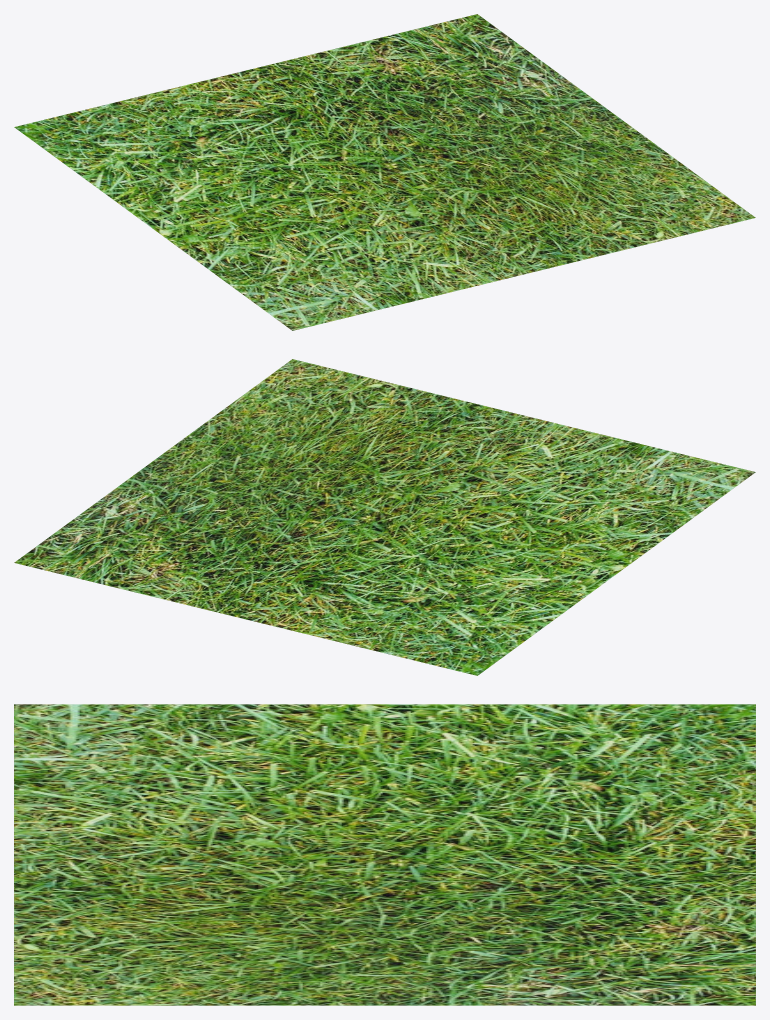
File: grund.fbx
3 renders of one model, top to bottom at view 1: azimuth 30°, elevation 25°; view 2: azimuth 150°, elevation 25°; view 3: azimuth 270°, elevation 25°, orthographic. The views are drawn at different scales.
Parts seen in each view (by area): view 1: Plane001; view 2: Plane001; view 3: Plane001.
Part boxes in pixels (x1=…): Plane001: x1=14, y1=14, x2=755, y2=330; Plane001: x1=14, y1=359, x2=755, y2=675; Plane001: x1=14, y1=704, x2=755, y2=1005.
Size of the model in its own units: 137 by 142 by 0.
Materials: 1 (1 with a texture image).
